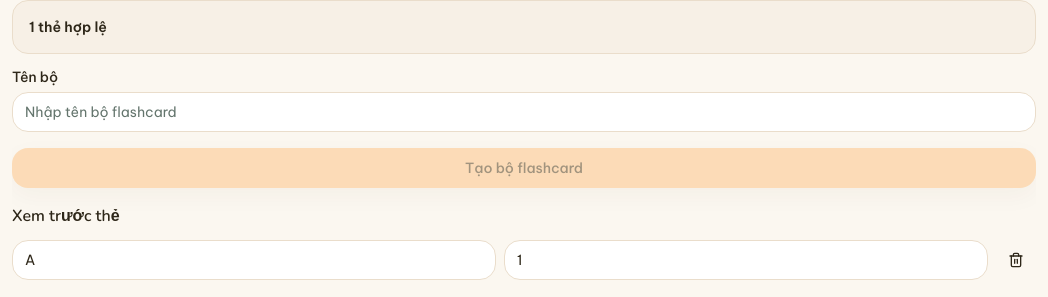
Test case: CreateSummary › requires a set name before creating
Expected: the button "Tạo bộ flashcard" is disabled, [12,148,1036,188]
Step 1. Type "Bộ kiểm tra" into the field labelled "Tên bộ" → (524, 112), box [12,92,1036,132]
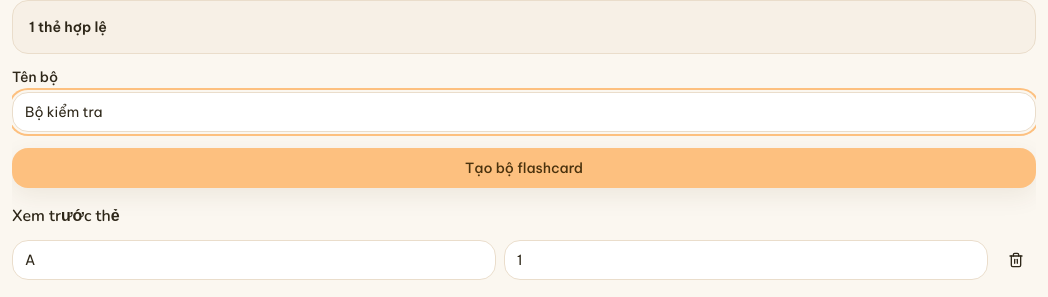
Now the button "Tạo bộ flashcard" is enabled, box [12,148,1036,188]
